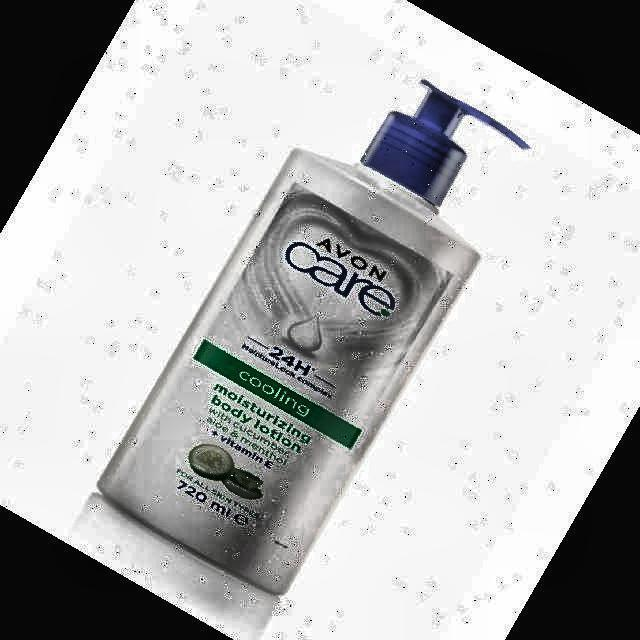plastic: (100, 85, 528, 592)
